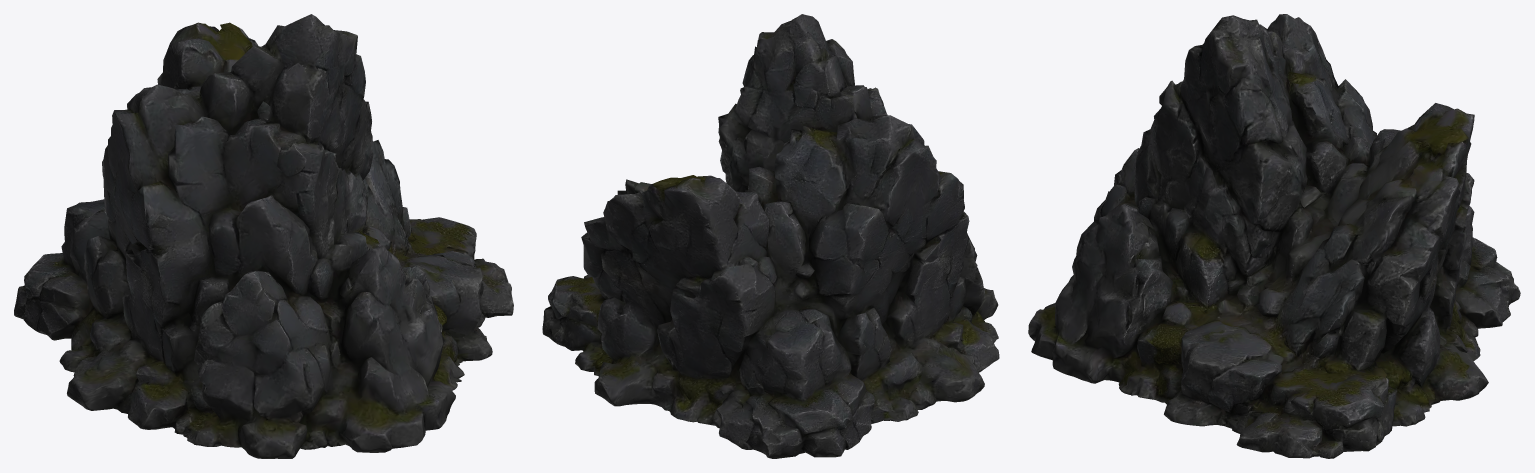
The picture shows the model from 3 angles, left to right: view 1: azimuth 30°, elevation 25°; view 2: azimuth 150°, elevation 25°; view 3: azimuth 270°, elevation 25°; orthographic projection. The views are drawn at different scales.
Visible parts, largest first — view 1: tripo_node_d04412d4-ad0a-456c-b1a5-12830439ecb1; view 2: tripo_node_d04412d4-ad0a-456c-b1a5-12830439ecb1; view 3: tripo_node_d04412d4-ad0a-456c-b1a5-12830439ecb1.
Part boxes in pixels (x1,y1,x2,y2): tripo_node_d04412d4-ad0a-456c-b1a5-12830439ecb1: (14, 14, 513, 458); tripo_node_d04412d4-ad0a-456c-b1a5-12830439ecb1: (542, 14, 999, 458); tripo_node_d04412d4-ad0a-456c-b1a5-12830439ecb1: (1028, 14, 1520, 458).
Size of the model in its own units: 0.9996 by 0.7568 by 1.
Materials: 1 (1 with a texture image).
